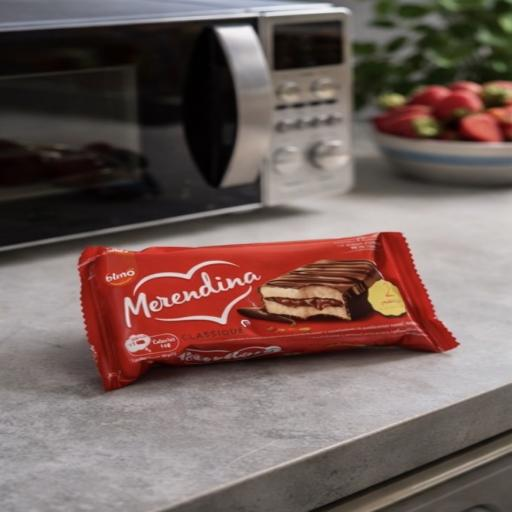merendina: (46, 205, 491, 399)
